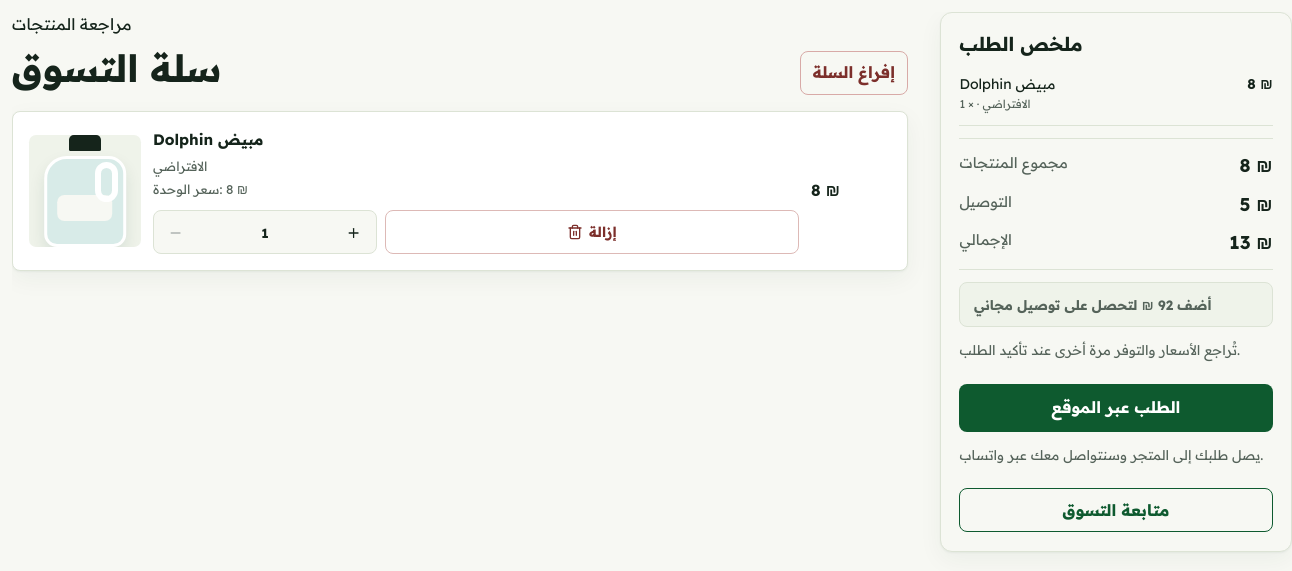
Test case: cart page › clears the cart after explicit confirmation
Click the button "إفراغ السلة".
click(854, 73)  # box [800, 51, 908, 95]
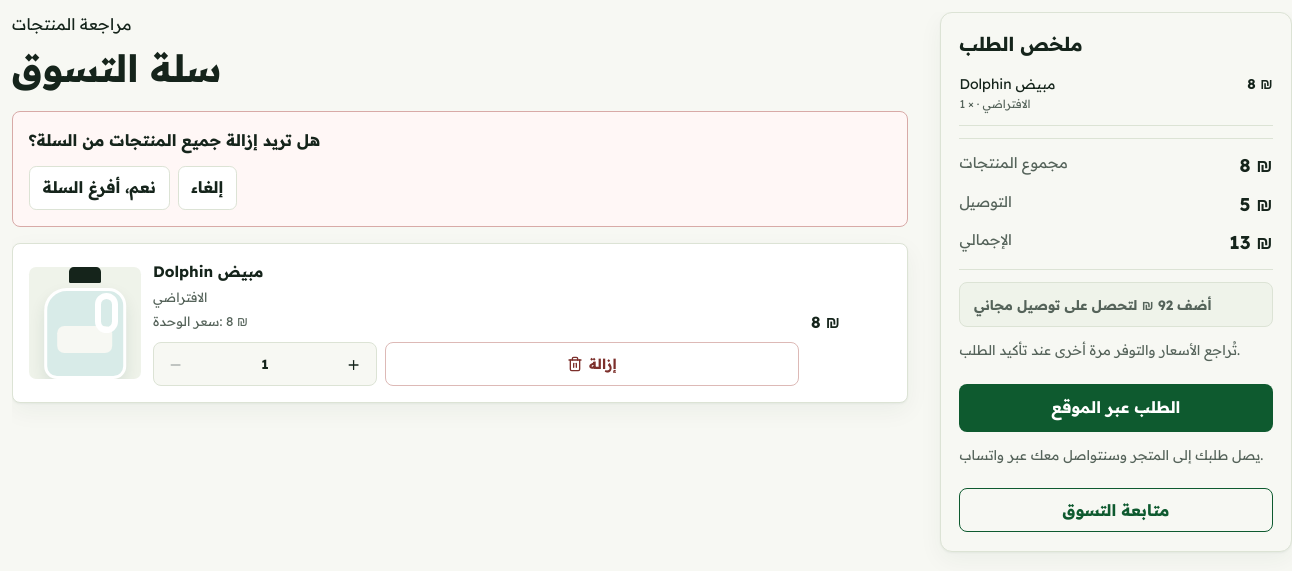
Click the button "نعم، أفرغ السلة".
click(99, 188)  # box [29, 166, 170, 210]
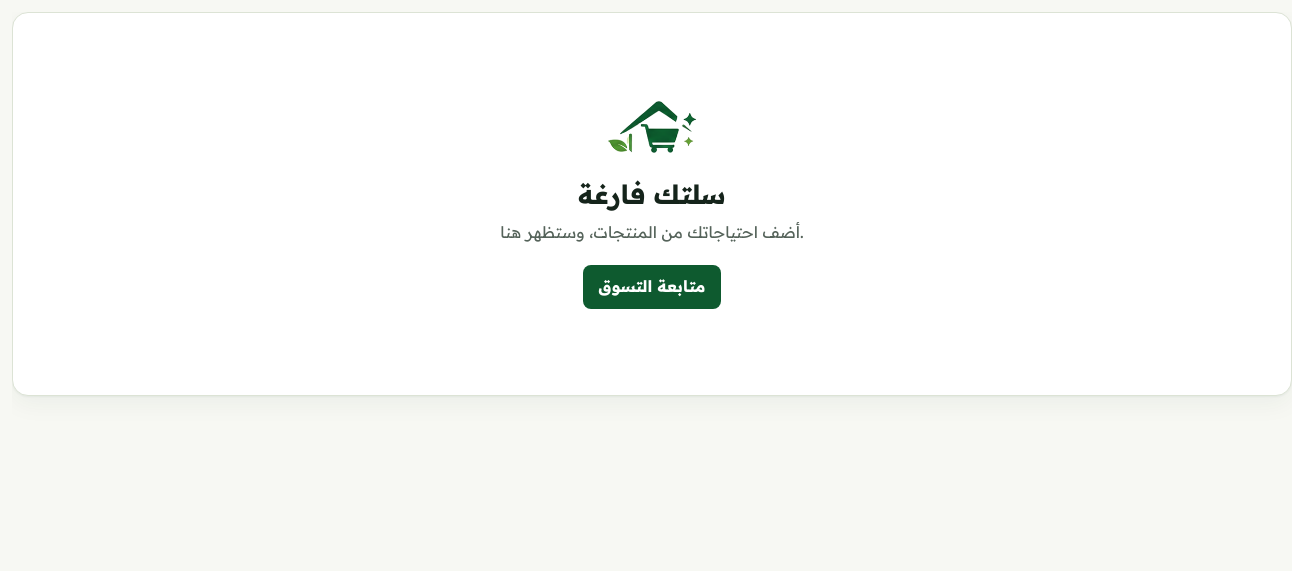
Expected: the heading "سلتك فارغة" is shown, [578, 176, 726, 214]
